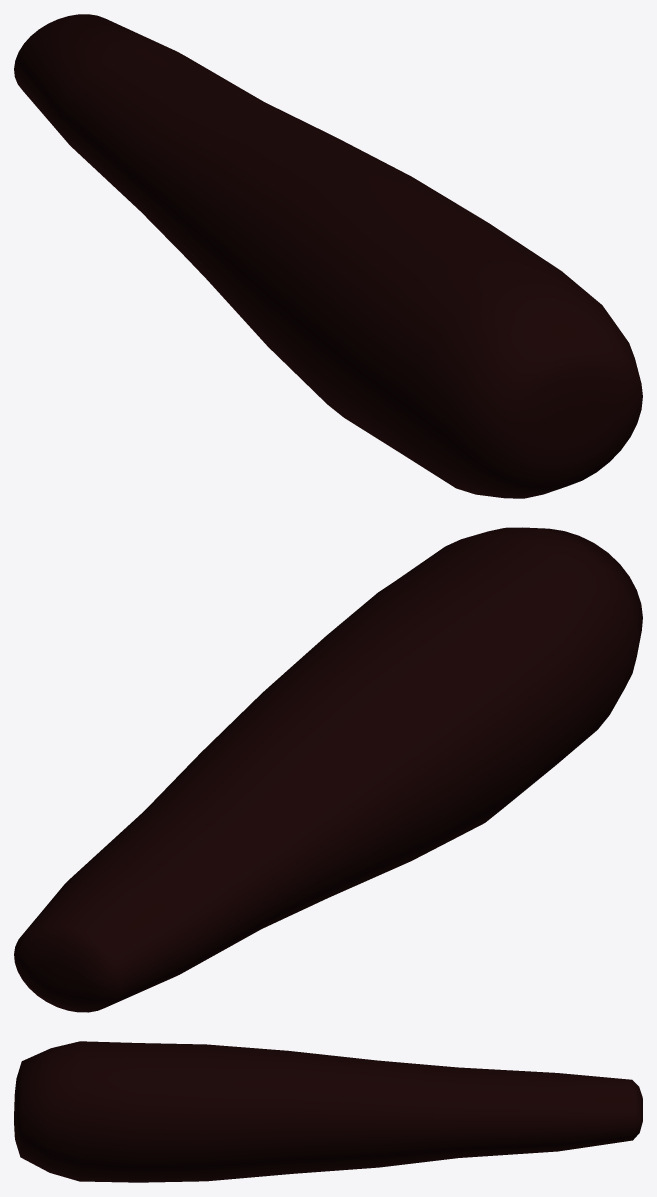
File: arm1 (no mapping).fbx
The picture shows the model from 3 angles, top to bottom: view 1: azimuth 30°, elevation 25°; view 2: azimuth 150°, elevation 25°; view 3: azimuth 270°, elevation 25°; orthographic projection. The views are drawn at different scales.
Visible parts, largest first — view 1: arm1; view 2: arm1; view 3: arm1.
Boxes of the visible parts, x1=… form: arm1: x1=14, y1=14, x2=642, y2=498; arm1: x1=14, y1=527, x2=642, y2=1012; arm1: x1=14, y1=1041, x2=642, y2=1182.
Size of the model in its own units: 102 by 90.75 by 402.
